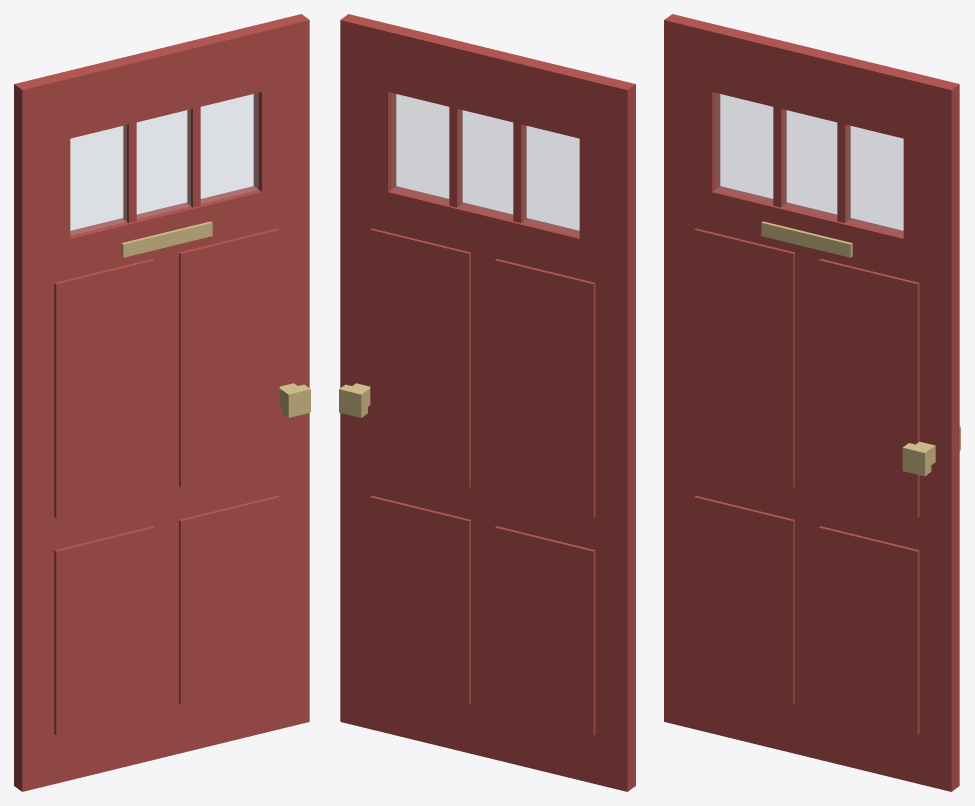
File: mlo_door_front_red.glb
3 renders of one model, left to right at view 1: azimuth 30°, elevation 25°; view 2: azimuth 150°, elevation 25°; view 3: azimuth 330°, elevation 25°, orthographic.
Visible parts, largest first — view 1: Door_Front_Red; view 2: Door_Front_Red; view 3: Door_Front_Red.
Part boxes in pixels (x1=…): Door_Front_Red: x1=14, y1=14, x2=310, y2=791; Door_Front_Red: x1=339, y1=14, x2=635, y2=791; Door_Front_Red: x1=664, y1=14, x2=960, y2=791.
Bounding box in the file's own units: 0.9 × 2.1 × 0.195.
